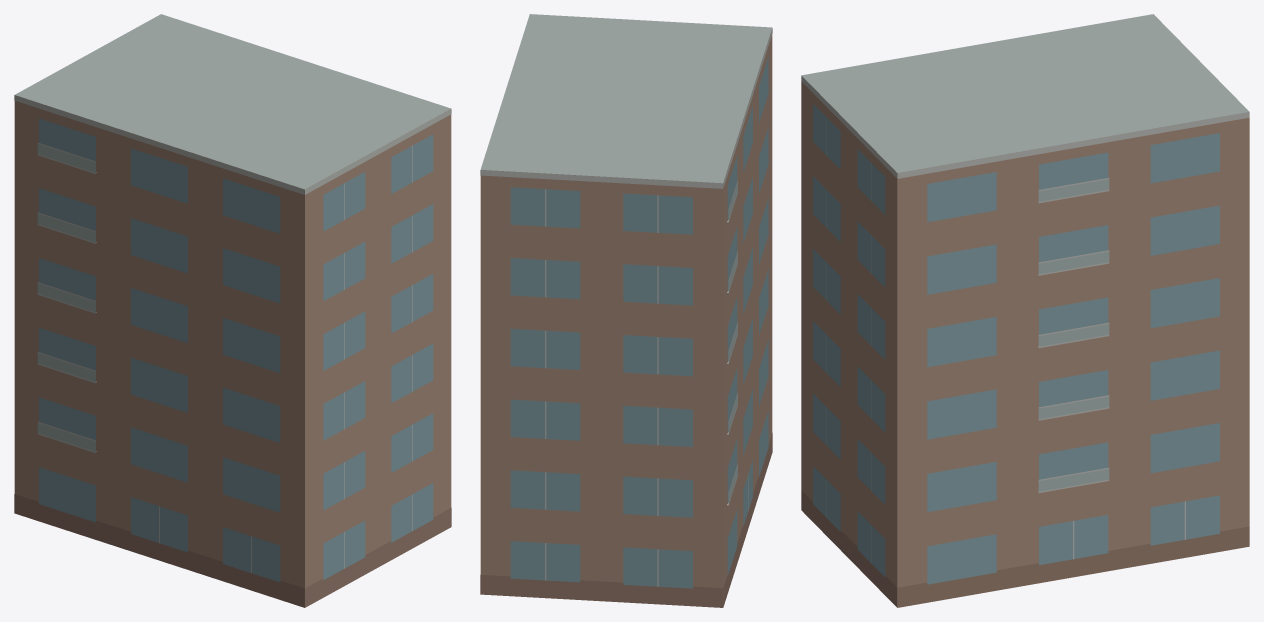
The model's file is survey-upis-32582846.glb.
3 renders of one model, left to right at view 1: azimuth 30°, elevation 25°; view 2: azimuth 150°, elevation 25°; view 3: azimuth 270°, elevation 25°, orthographic. The views are drawn at different scales.
Parts seen in each view (by area): view 1: survey-upis-32582846.tmp; view 2: survey-upis-32582846.tmp; view 3: survey-upis-32582846.tmp.
Boxes of the visible parts, bbox=[...] form: survey-upis-32582846.tmp: bbox=[14, 14, 451, 607]; survey-upis-32582846.tmp: bbox=[480, 14, 772, 607]; survey-upis-32582846.tmp: bbox=[801, 14, 1249, 607].
Size of the model in its own units: 14.37 by 18.3 by 17.11.
